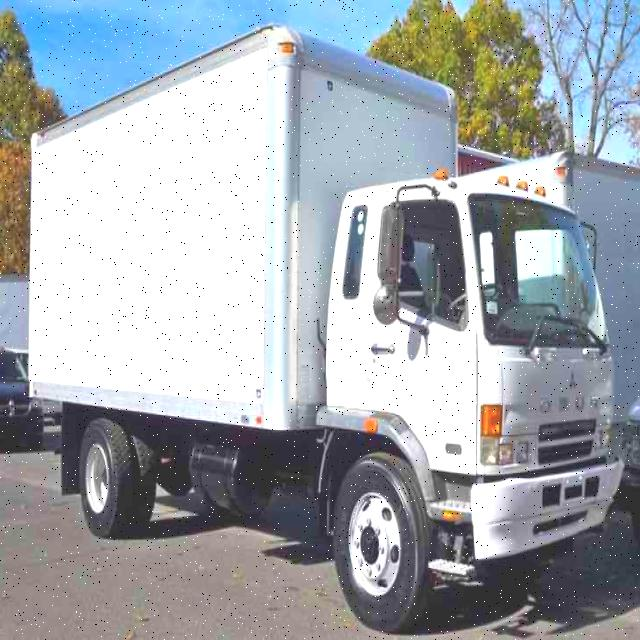truck: (31, 24, 624, 625)
